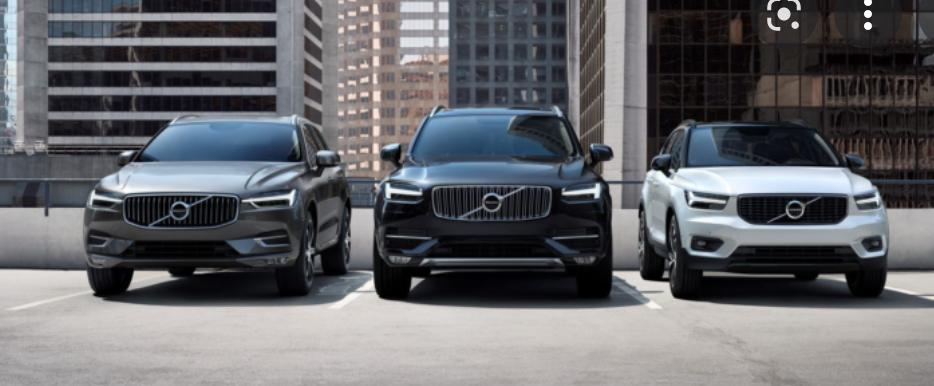car: (74, 105, 353, 300), (372, 98, 619, 302), (637, 112, 899, 303)
